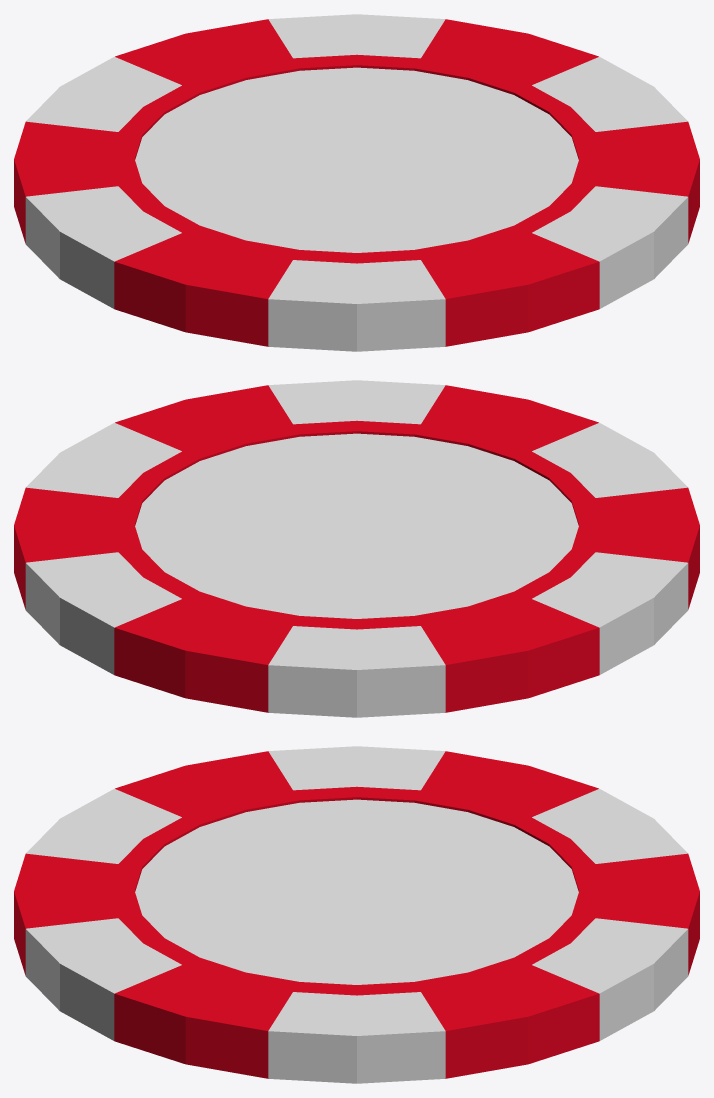
The model's file is カジノコイン.fbx.
3 views of the same model, one above another, from view 1: azimuth 30°, elevation 25°; view 2: azimuth 150°, elevation 25°; view 3: azimuth 270°, elevation 25° (orthographic).
Parts seen in each view (by area): view 1: 円; view 2: 円; view 3: 円.
Boxes of the visible parts, bbox=[...] form: 円: bbox=[14, 14, 699, 351]; 円: bbox=[14, 380, 699, 717]; 円: bbox=[14, 746, 699, 1083].
Size of the model in its own units: 200 by 15.34 by 200.
